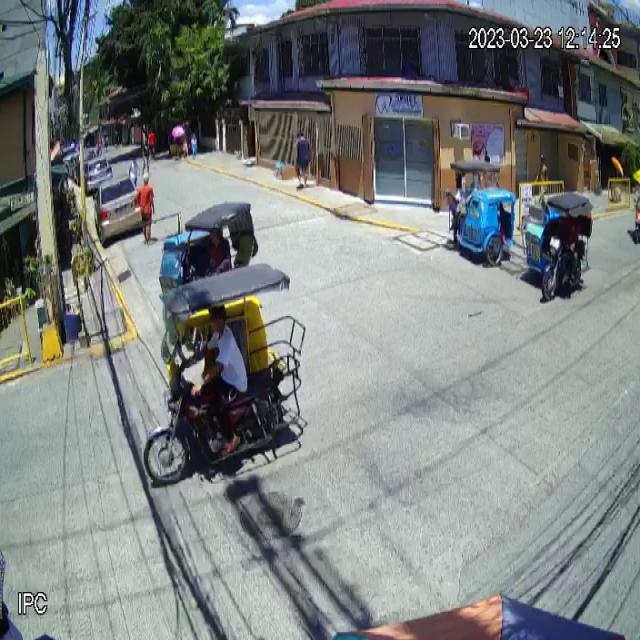Tricycle: (143, 261, 306, 487), (443, 159, 518, 269), (522, 192, 594, 300)
